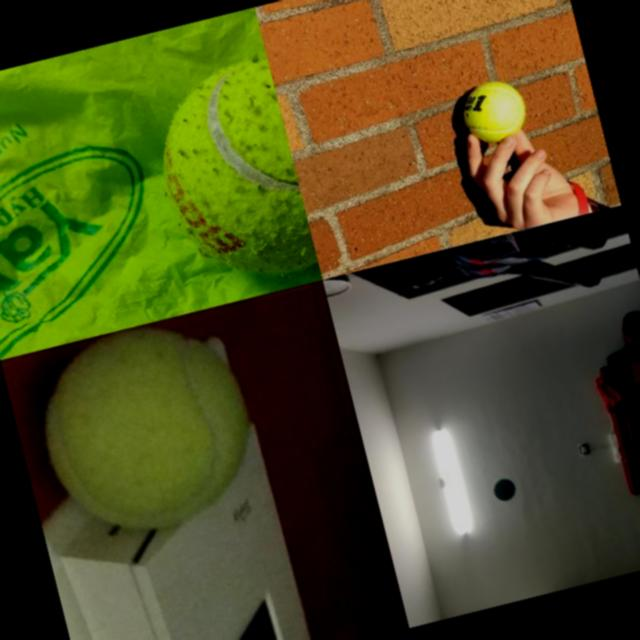tennis-ball: (18, 304, 274, 552), (138, 54, 318, 298), (457, 75, 532, 149), (491, 476, 518, 503)
